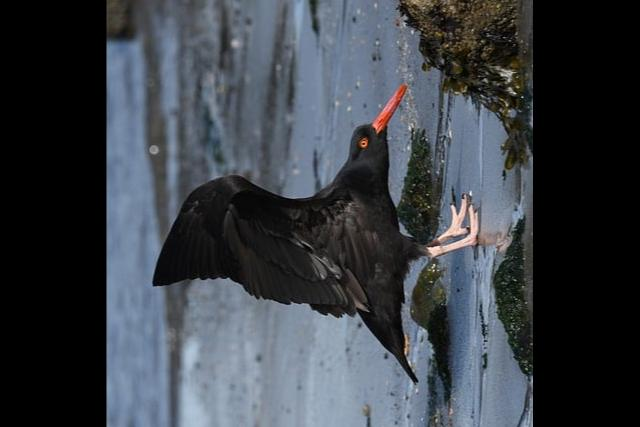Non_Gorille: (106, 14, 533, 427)
